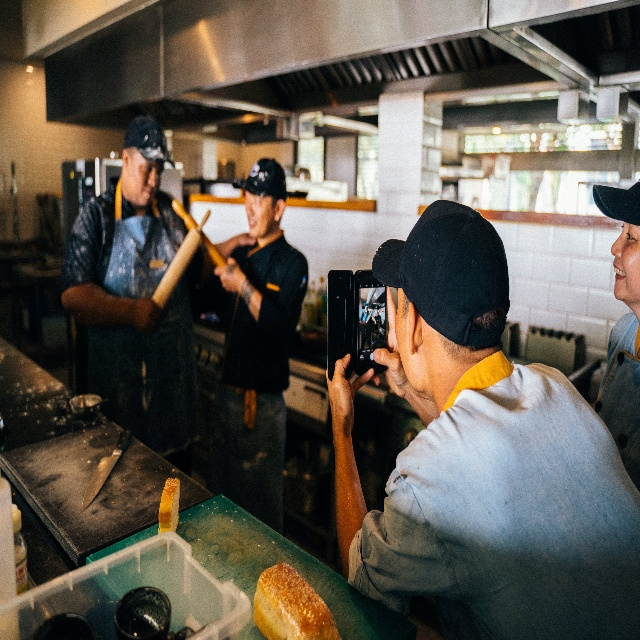Sin_guantes: (324, 353, 373, 437), (373, 343, 409, 399), (132, 295, 162, 332), (213, 257, 240, 293)
